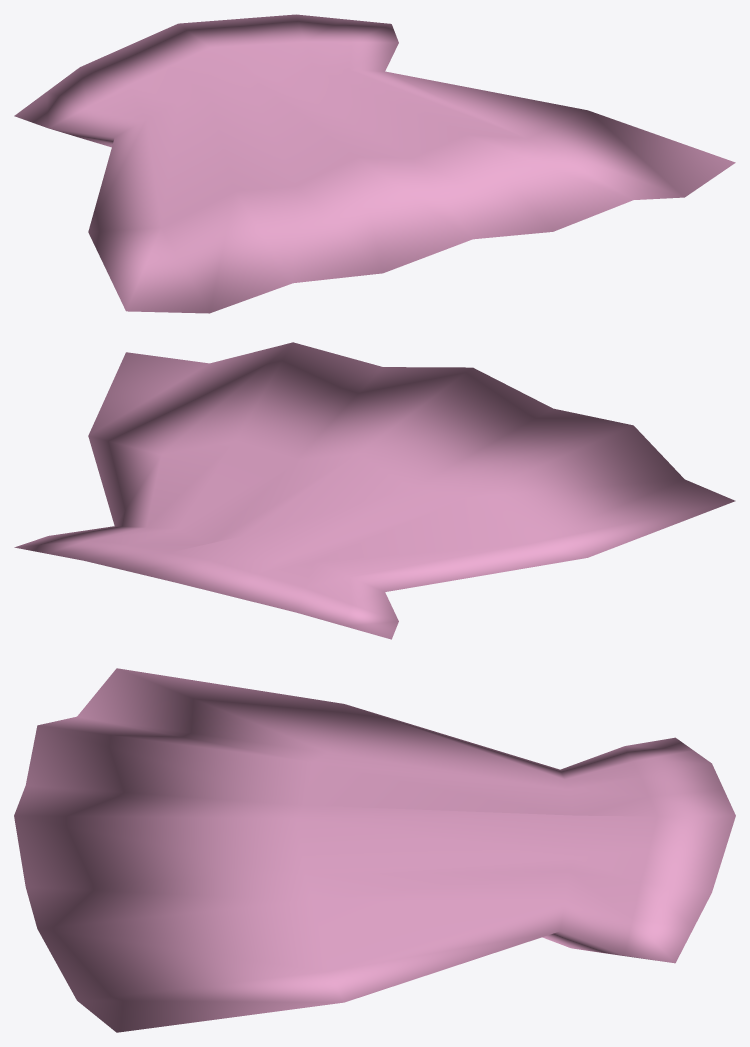
File: CoquillageRose.fbx
3 views of the same model, one above another, from view 1: azimuth 30°, elevation 25°; view 2: azimuth 150°, elevation 25°; view 3: azimuth 270°, elevation 25° (orthographic). The views are drawn at different scales.
Visible parts, largest first — view 1: CoquillageRose_LOD0; view 2: CoquillageRose_LOD0; view 3: CoquillageRose_LOD0.
Part boxes in pixels (x1,y1,x2,y2): CoquillageRose_LOD0: (14,14,735,313); CoquillageRose_LOD0: (14,342,735,639); CoquillageRose_LOD0: (14,668,735,1032).
Size of the model in its own units: 89.1 by 7.42 by 74.57.
